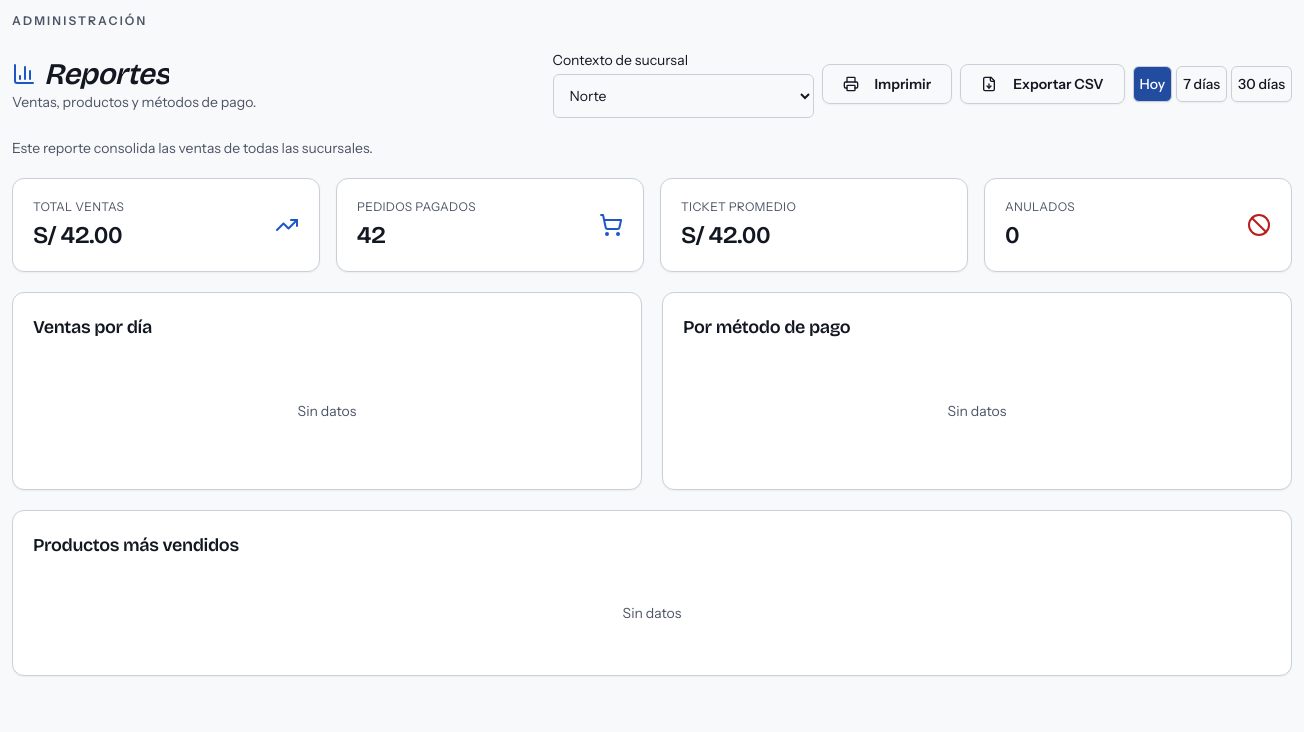
Test: registered branch and legacy contexts send exact filters while retaining the period
Select "Norte" in the dropdown with test id "reportes-branch-context" at (683, 96), box [553,74,814,118]
Select "Norte" in the dropdown with test id "reportes-branch-context" at (683, 96), box [553,74,814,118]
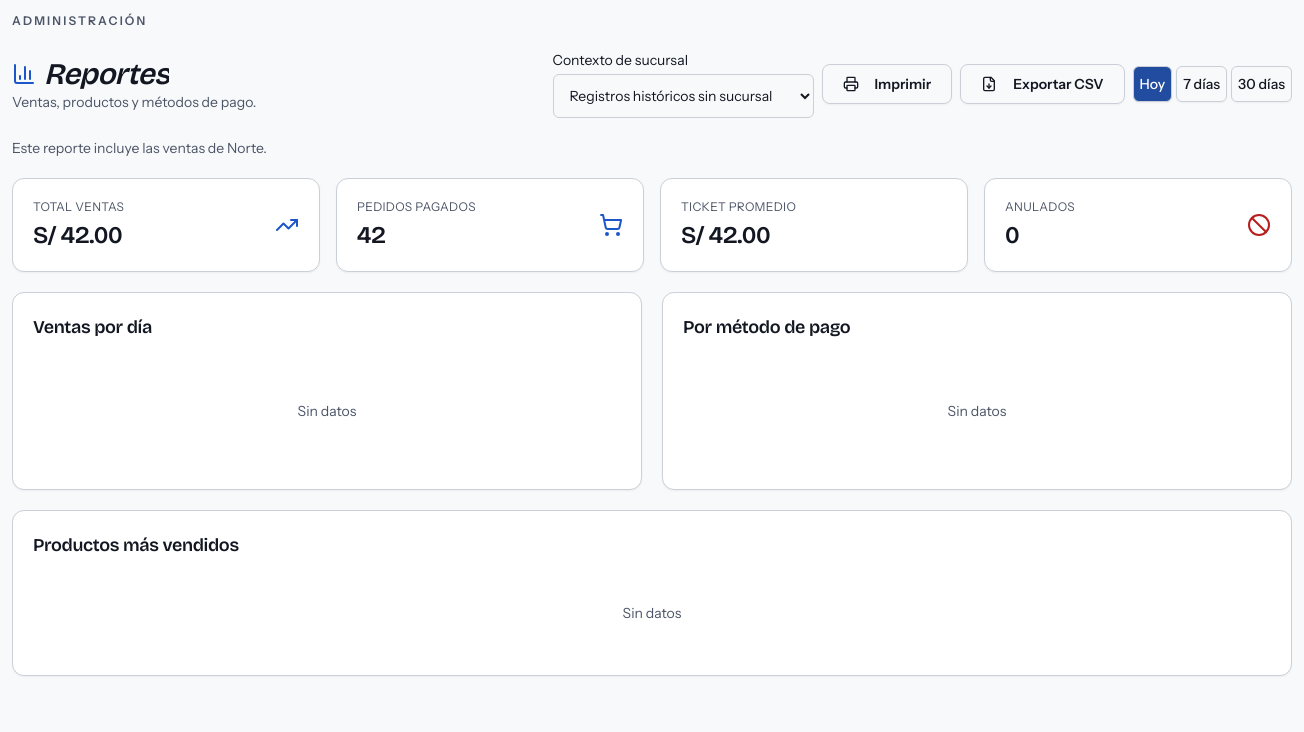
Expected: the text "Norte" is shown, [12,139,267,157]
Expected: the text "Este reporte incluye las ventas de Norte." is shown, [12,139,267,157]
Select "Registros históricos sin sucursal" in the dropdown with test id "reportes-branch-context" at (683, 96), box [553,74,814,118]
Select "Registros históricos sin sucursal" in the dropdown with test id "reportes-branch-context" at (683, 96), box [553,74,814,118]
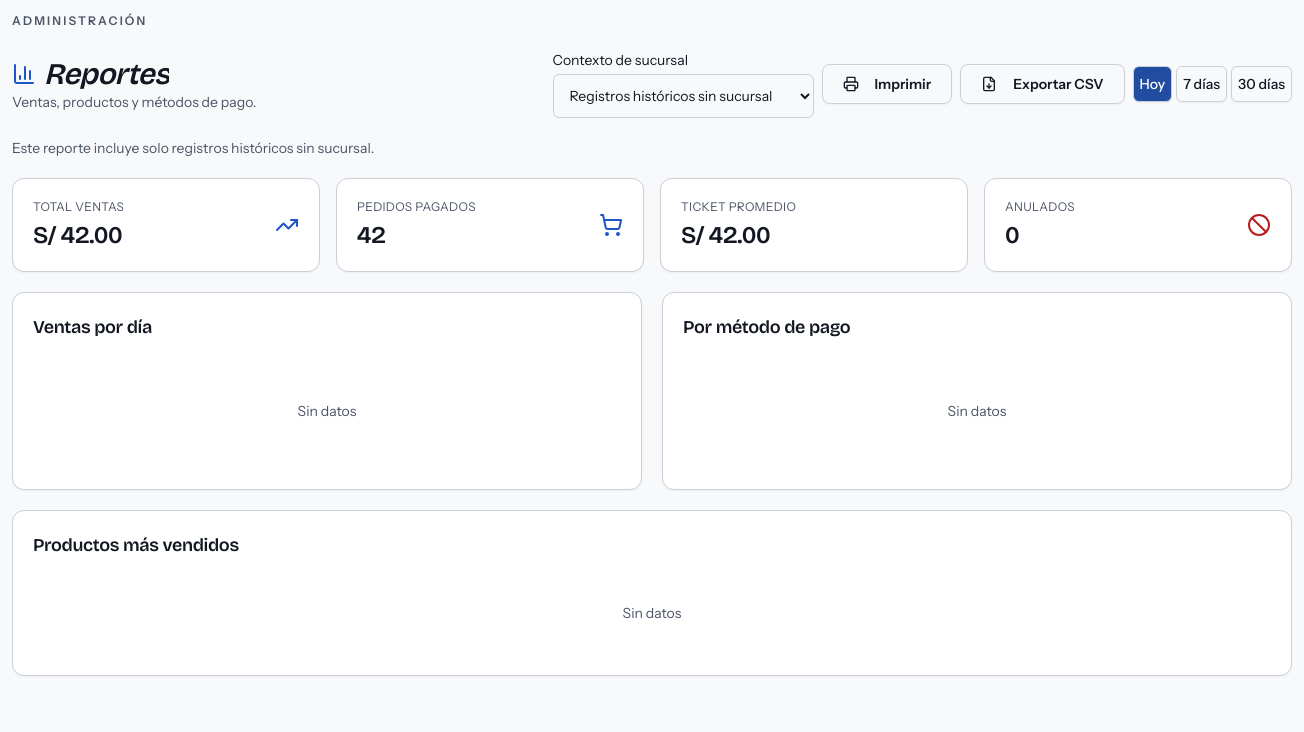
Expected: the text "registros históricos sin sucursal" is shown, [12,139,374,157]
